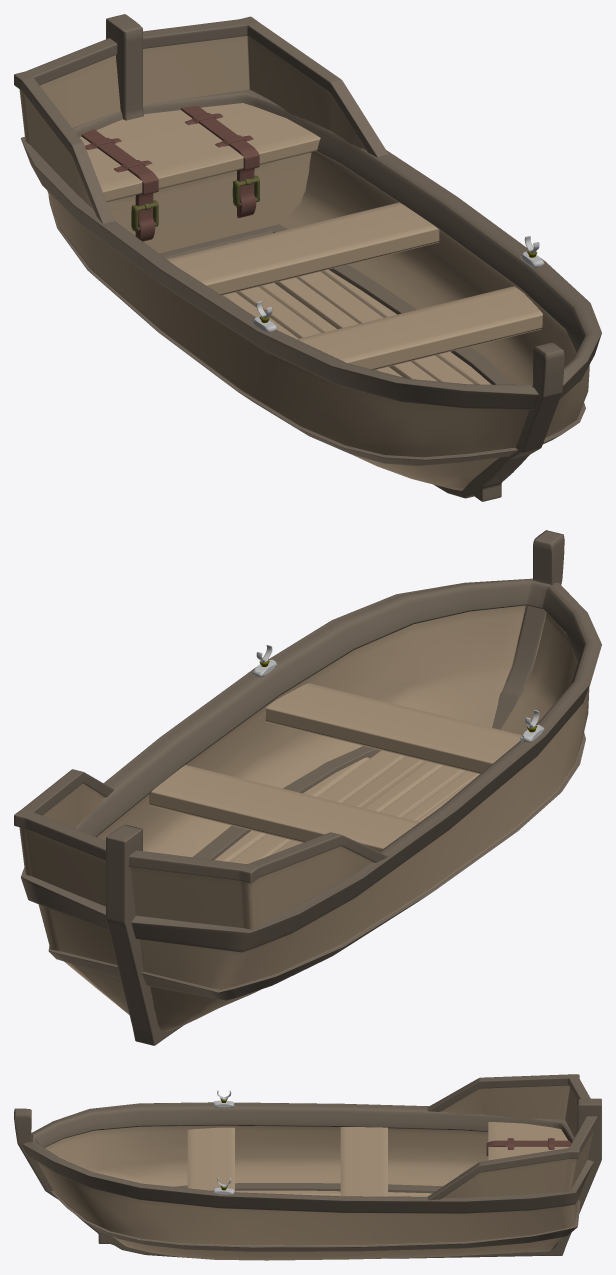
The model's file is SoT rowboat.fbx.
3 views of the same model, one above another, from view 1: azimuth 30°, elevation 25°; view 2: azimuth 150°, elevation 25°; view 3: azimuth 270°, elevation 25° (orthographic). The views are drawn at different scales.
Parts seen in each view (by area): view 1: pCube15; view 2: pCube15; view 3: pCube15.
Boxes of the visible parts, bbox=[...] form: pCube15: bbox=[14, 14, 601, 501]; pCube15: bbox=[14, 530, 601, 1045]; pCube15: bbox=[14, 1074, 601, 1260].
Bounding box in the file's own units: 78.55 × 58.72 × 202.
